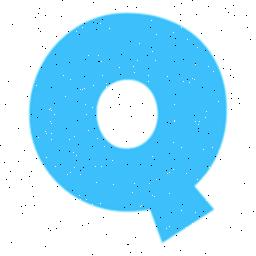q: (0, 2, 256, 256)
